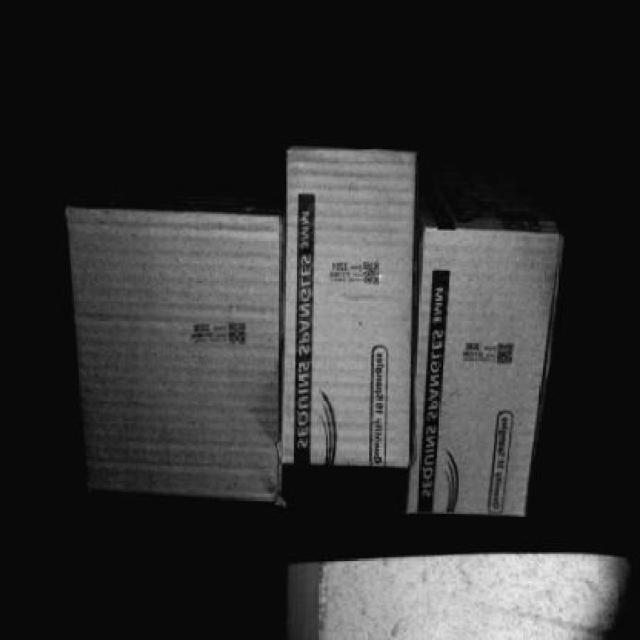cardboxes: (77, 214, 275, 503), (408, 234, 560, 520), (282, 149, 412, 463)
